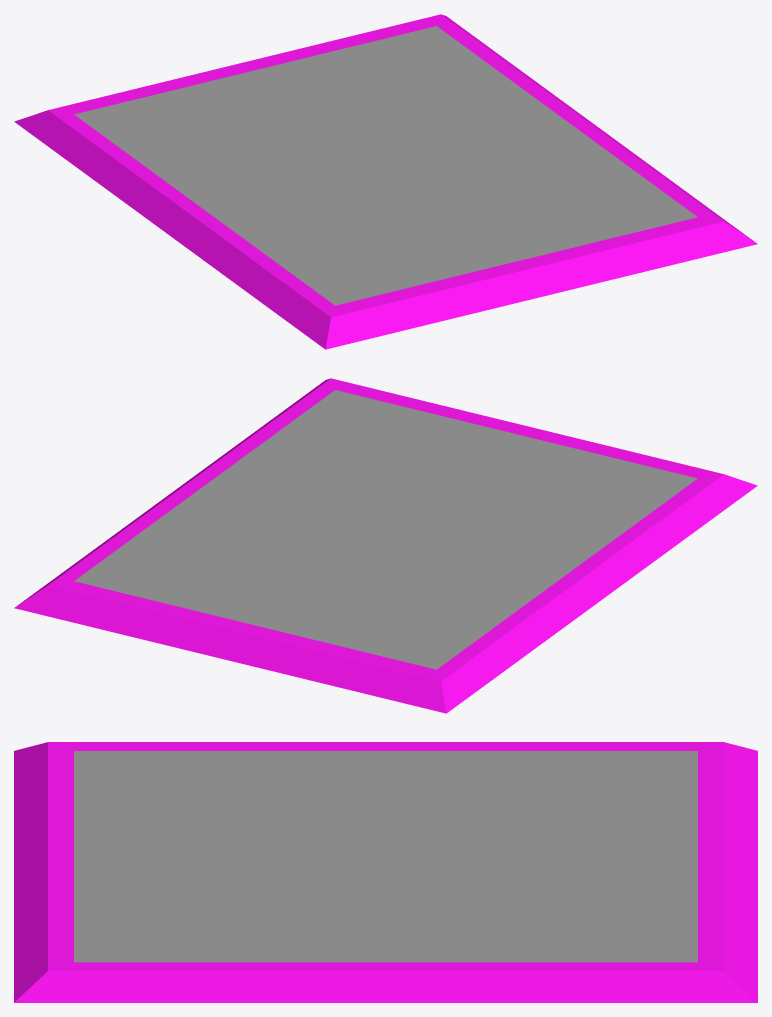
File: Booster.FBX
3 views of the same model, one above another, from view 1: azimuth 30°, elevation 25°; view 2: azimuth 150°, elevation 25°; view 3: azimuth 270°, elevation 25° (orthographic). The views are drawn at different scales.
Parts seen in each view (by area): view 1: Booster; view 2: Booster; view 3: Booster.
Boxes of the visible parts, x1,y1,x2,y2 form: Booster: [14, 14, 757, 349]; Booster: [14, 378, 757, 713]; Booster: [14, 742, 757, 1002].
Size of the model in its own units: 143 by 5.39 by 179.
